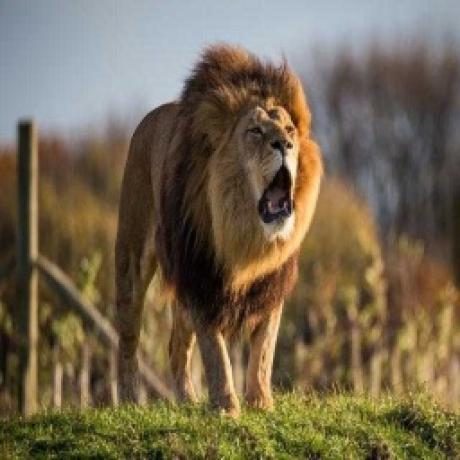Lion: (110, 42, 326, 414)
